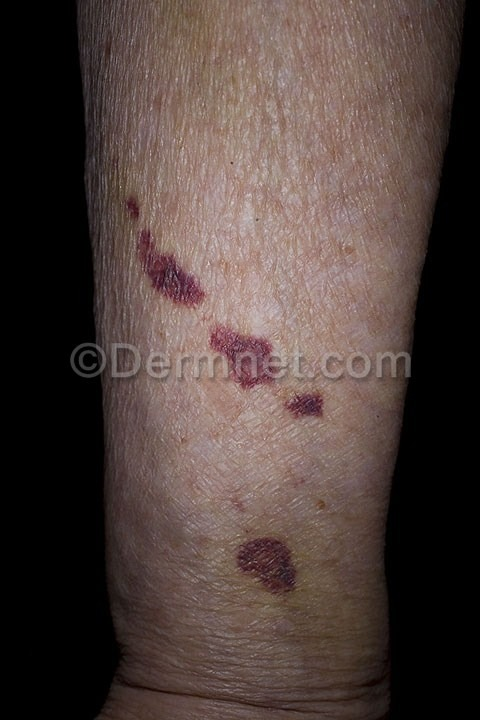Melasma: (245, 199, 437, 578), (214, 256, 358, 431)
